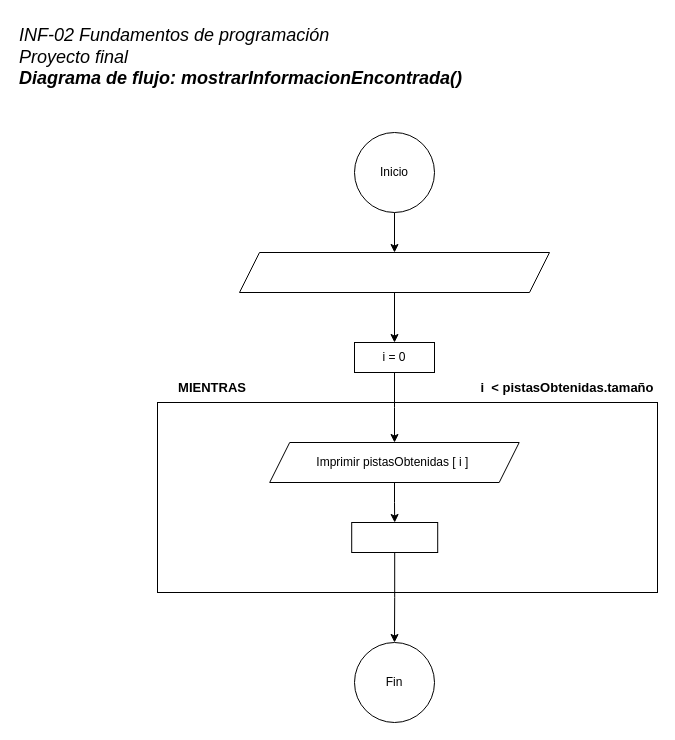
Image size: 675x740. Some labels were removed from this diagram. The shapes that lost their labels are listed below. From the top down, each one's box as (x1, y1, x2, y2) in pixels, then its label:
(238, 252, 550, 292): Imprimir "INFORMACION ENCONTRADA"
(351, 522, 438, 552): i = i + 1
